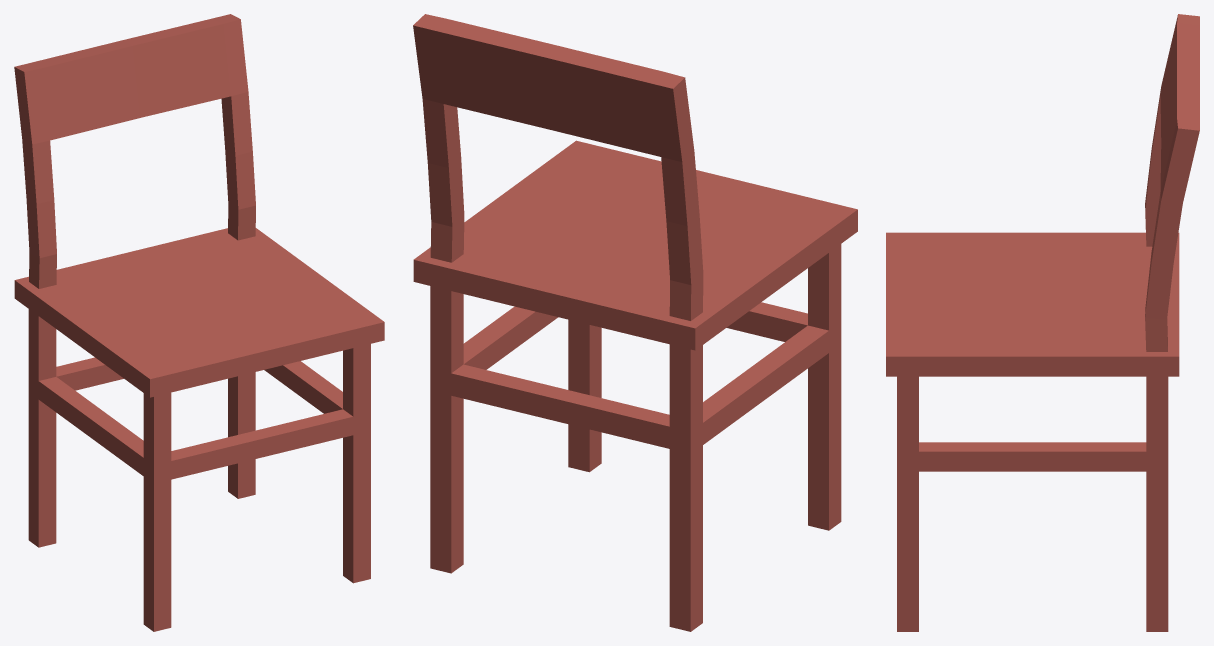
File: chair.fbx
3 views of the same model, side by side, from view 1: azimuth 30°, elevation 25°; view 2: azimuth 150°, elevation 25°; view 3: azimuth 270°, elevation 25° (orthographic). The views are drawn at different scales.
Parts seen in each view (by area): view 1: Cube.001; view 2: Cube.001; view 3: Cube.001.
Boxes of the visible parts, <box> form: Cube.001: <box>14,14,384,631</box>; Cube.001: <box>413,14,857,631</box>; Cube.001: <box>886,14,1199,631</box>.
Size of the model in its own units: 40 by 75.77 by 42.79.
